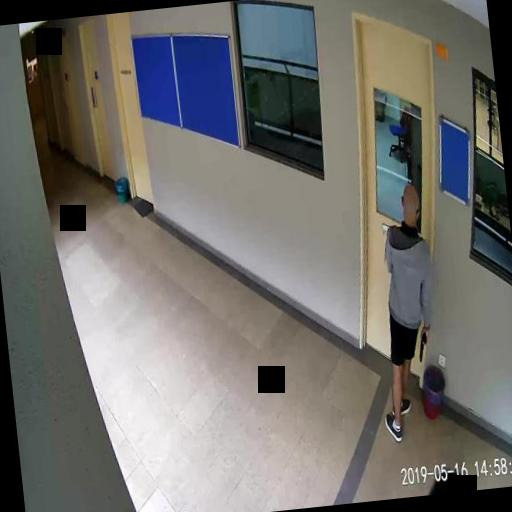Handgun: (416, 326, 430, 360)
